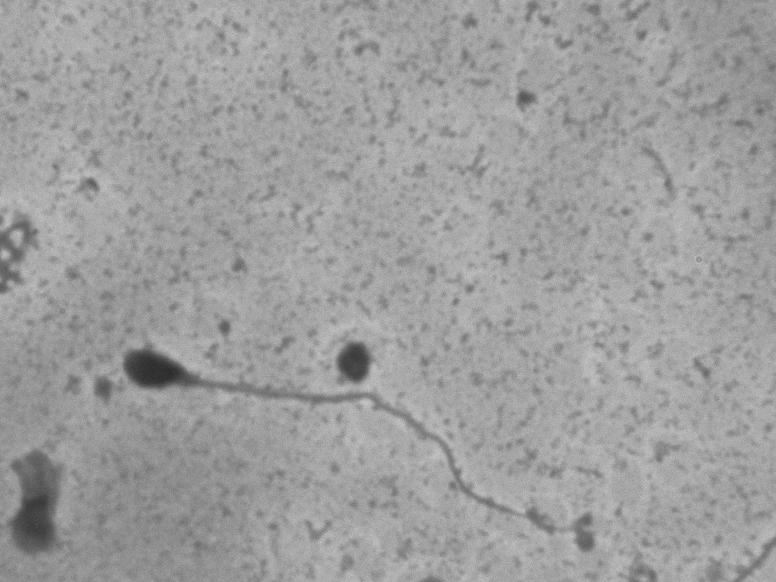Abnormal: (104, 316, 305, 462)
